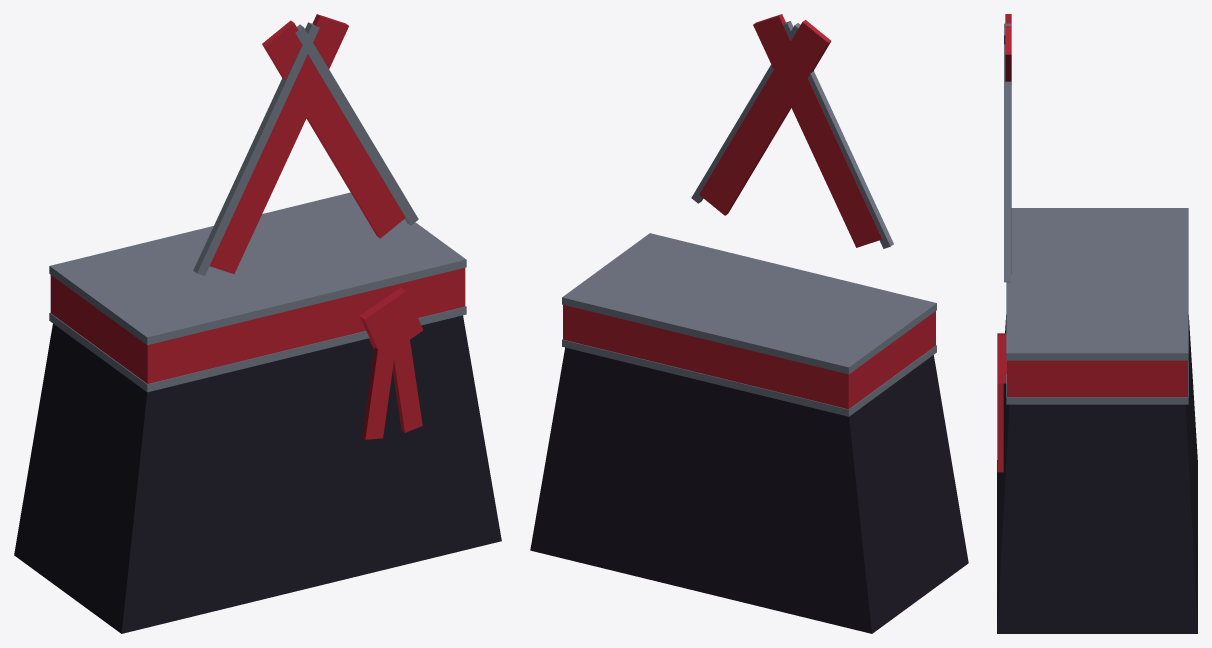
Rendered from eqf_eqko0.glb.
3 renders of one model, left to right at view 1: azimuth 30°, elevation 25°; view 2: azimuth 150°, elevation 25°; view 3: azimuth 270°, elevation 25°, orthographic. The views are drawn at different scales.
Size of the model in its own units: 2.54 by 3.6 by 1.24.
